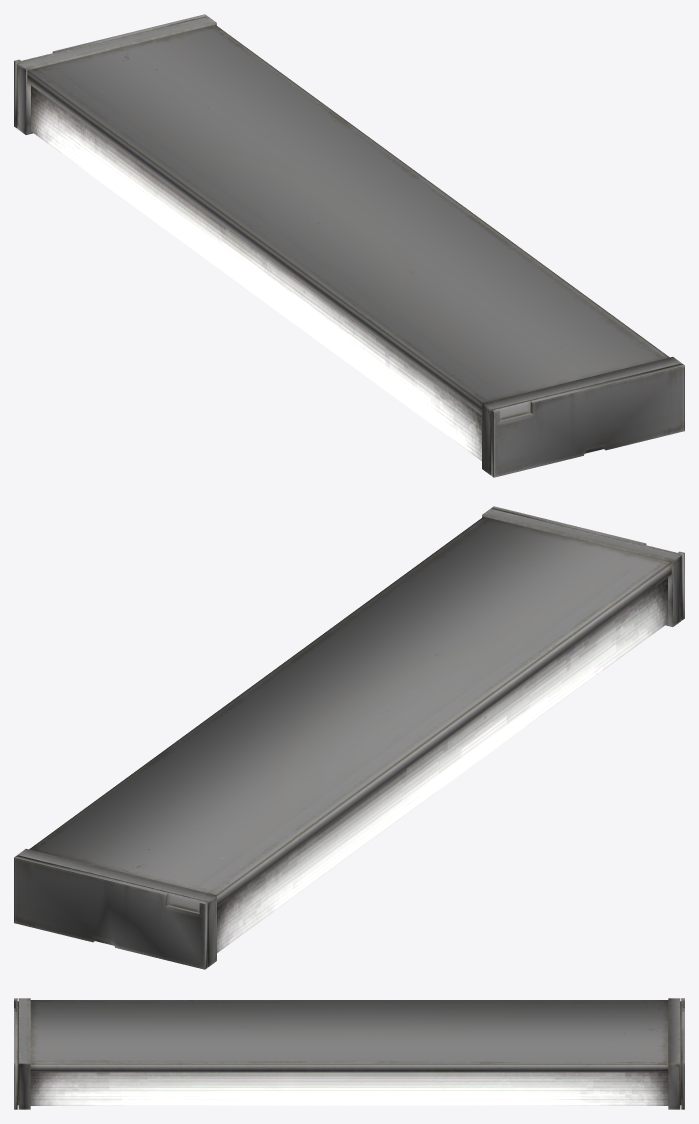
Rendered from flourescent_ceiling_large.dae.
3 views of the same model, one above another, from view 1: azimuth 30°, elevation 25°; view 2: azimuth 150°, elevation 25°; view 3: azimuth 270°, elevation 25° (orthographic). The views are drawn at different scales.
Visible parts, largest first — view 1: flourescent_ceiling_large; view 2: flourescent_ceiling_large; view 3: flourescent_ceiling_large.
Boxes of the visible parts, x1,y1,x2,y2 form: flourescent_ceiling_large: (14,14,684,477); flourescent_ceiling_large: (14,506,684,969); flourescent_ceiling_large: (14,998,684,1109).
Size of the model in its own units: 18.37 by 6.03 by 79.92.
